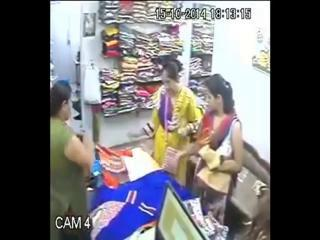Normal: (170, 74, 244, 224), (85, 142, 194, 239), (50, 80, 94, 240), (150, 59, 203, 166)
